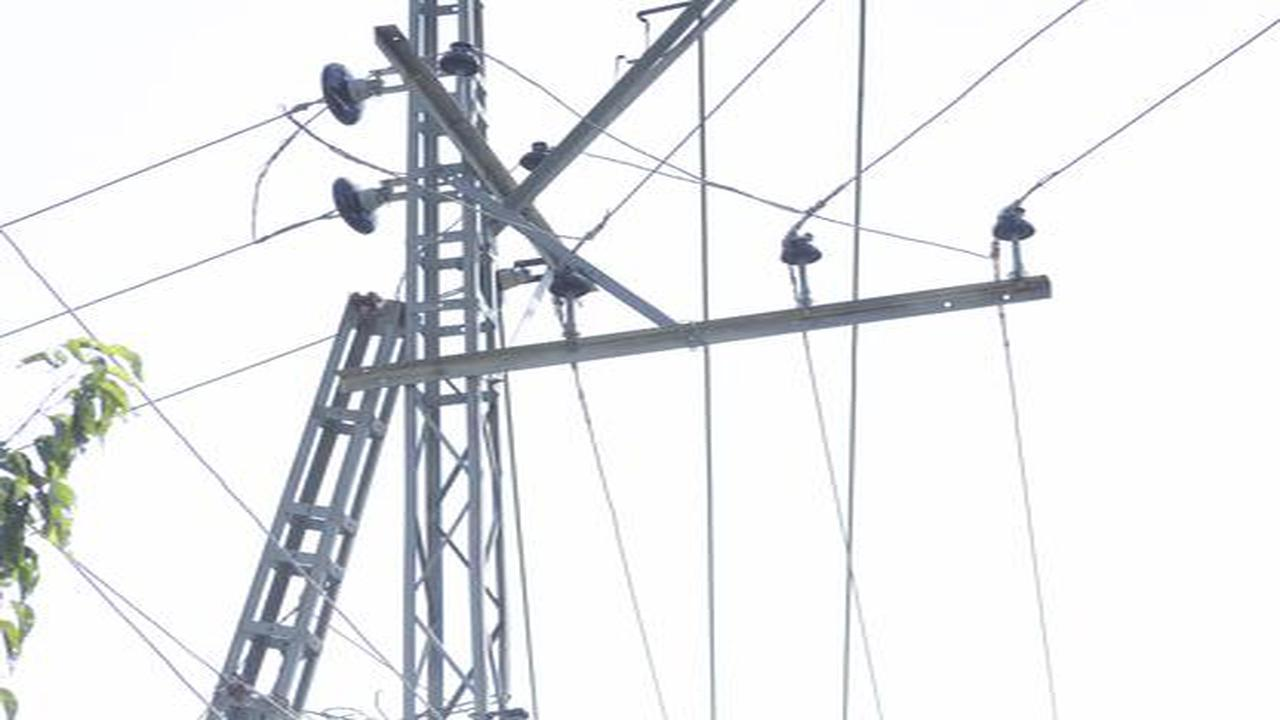insulator_disc: (325, 159, 397, 243), (312, 59, 385, 127)
insulator_pin: (437, 36, 496, 87), (989, 195, 1041, 247), (773, 226, 827, 274), (545, 259, 602, 304), (515, 134, 562, 175)
